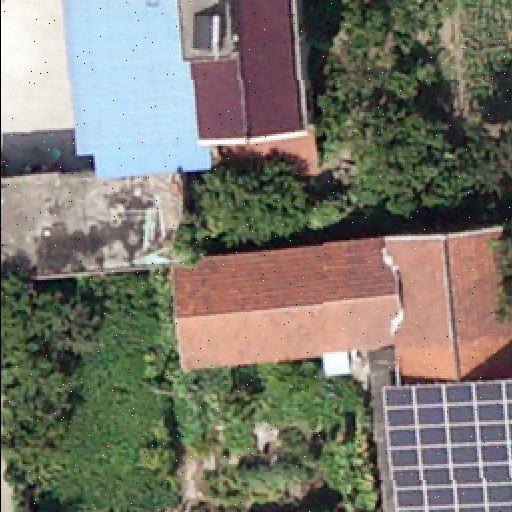solar-panel: (384, 380, 512, 512)
